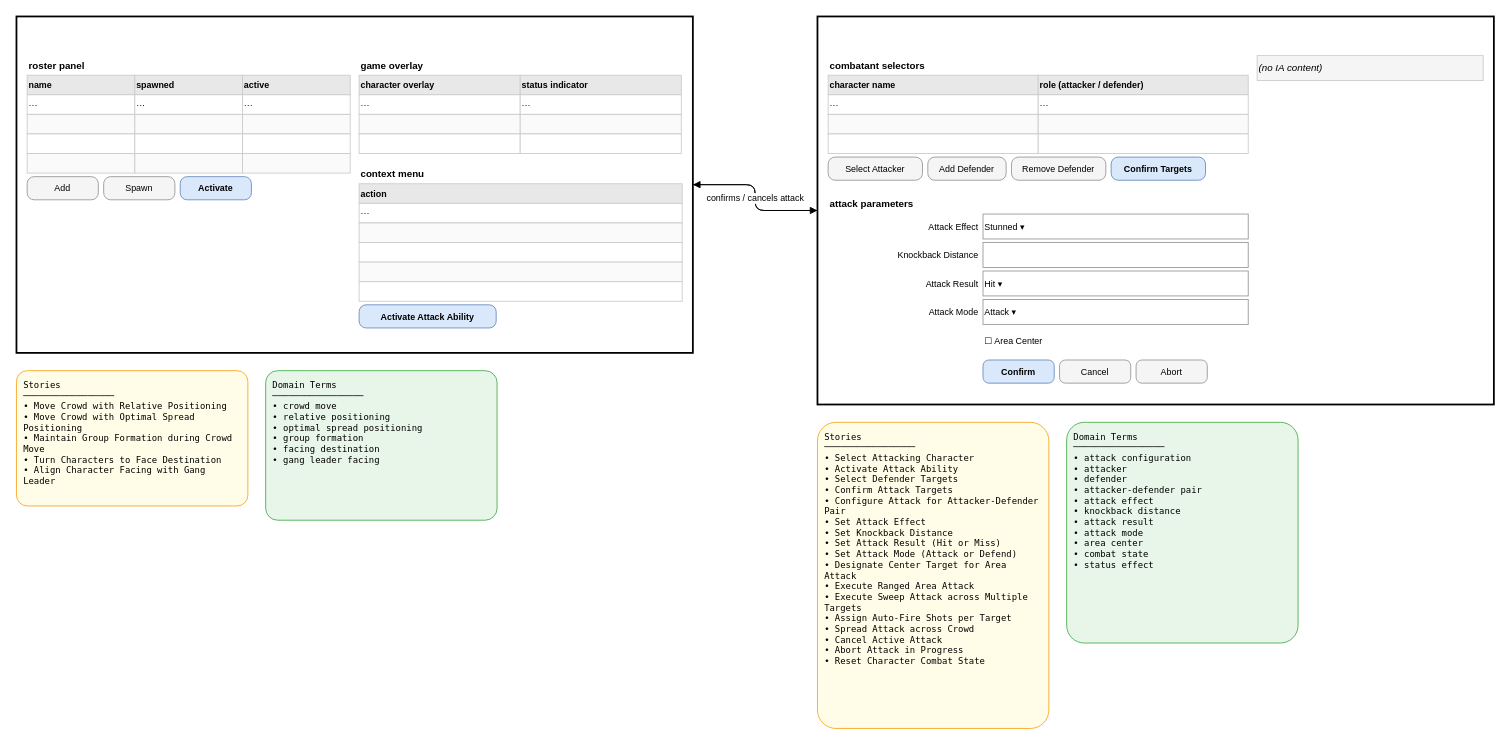
The diagram is 1509 pixels wide and 744 high, and some of its shapes have lost their labels. The box of each missing label's shape, as (x1, y1, x2, y2) in pixels:
attack configuration: (816, 15, 1494, 405)
desktop: (15, 15, 693, 353)
